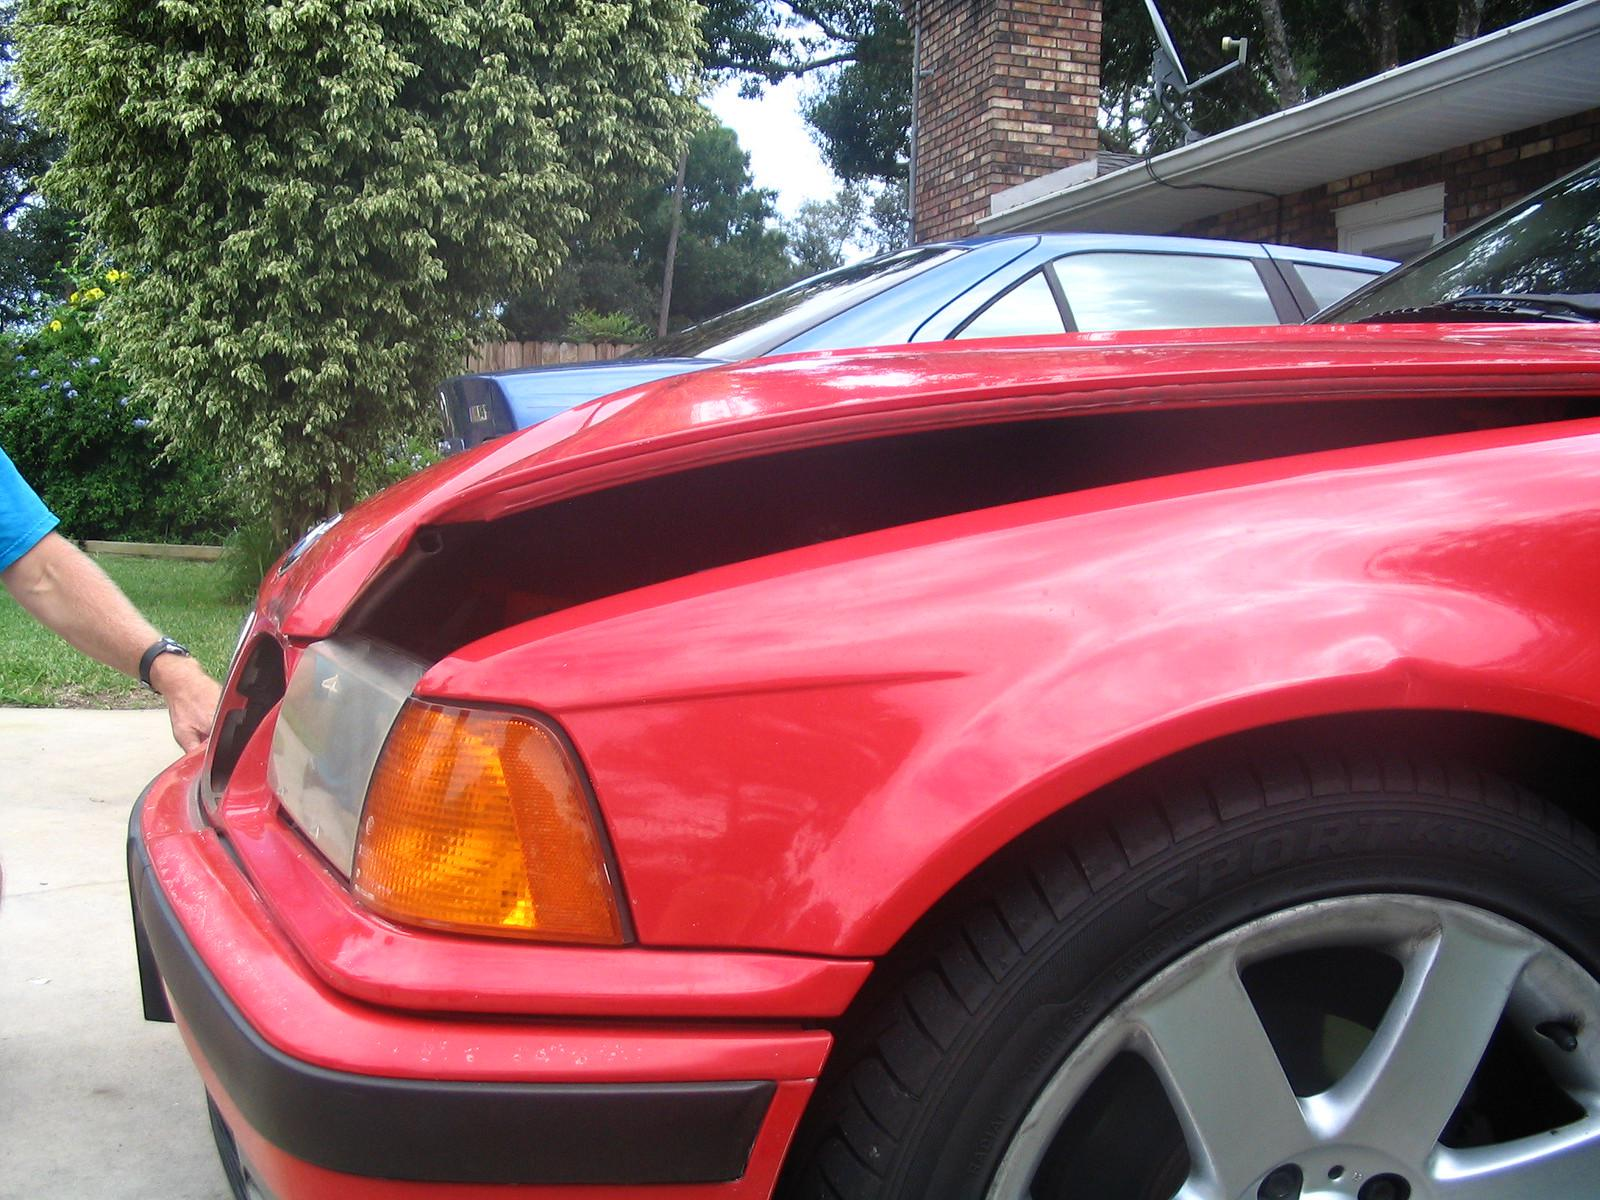bonnet-dent: (221, 233, 1493, 586)
